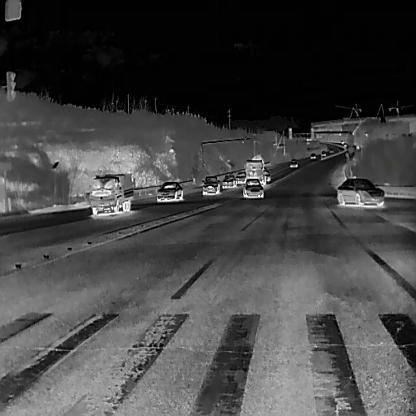car: (88, 172, 135, 216), (336, 177, 385, 206), (244, 154, 266, 185), (155, 181, 183, 203), (242, 177, 264, 198), (201, 175, 220, 195), (221, 174, 236, 188), (233, 171, 246, 184), (264, 169, 271, 181), (289, 158, 297, 168), (310, 152, 316, 158), (328, 147, 333, 153), (321, 150, 326, 156), (355, 143, 359, 149), (343, 142, 347, 147), (338, 147, 342, 151), (340, 139, 343, 144)
